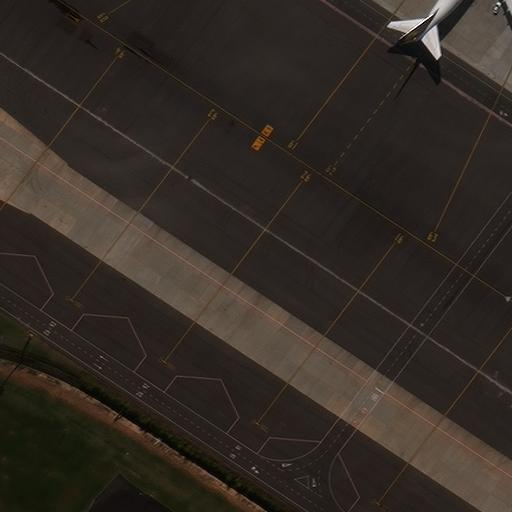Large Civil Transport: (401, 0, 512, 39)
